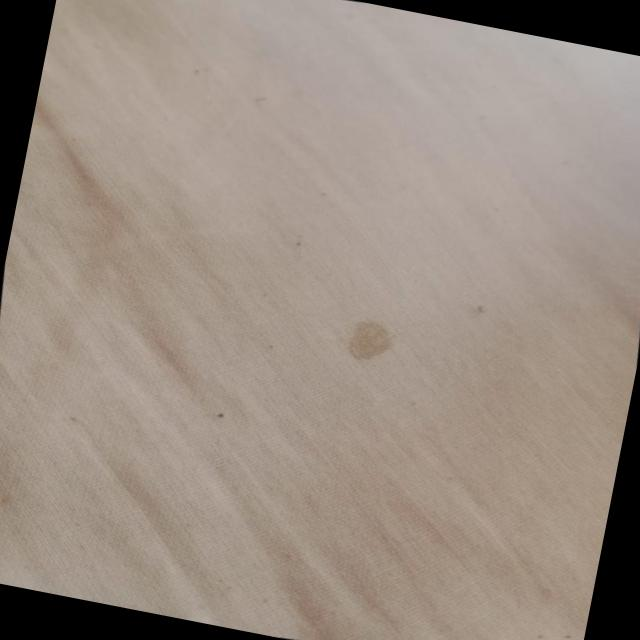stain: (334, 311, 406, 368), (194, 392, 250, 434), (456, 296, 502, 326)
